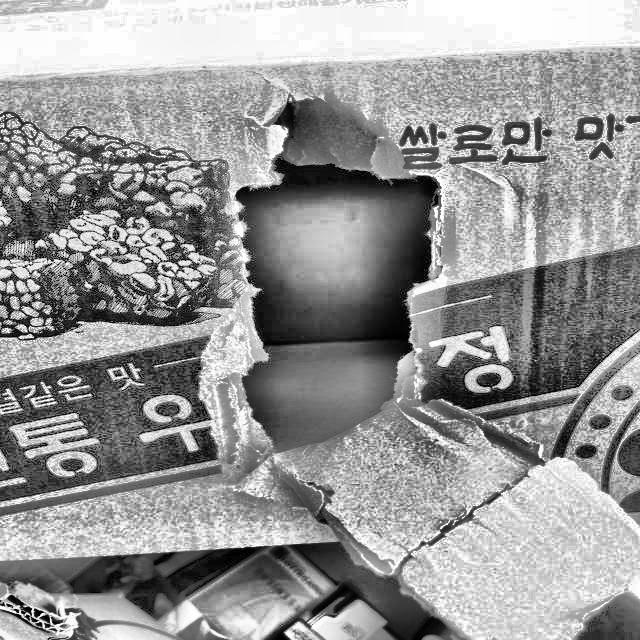box: (0, 38, 639, 568)
hole: (217, 165, 453, 462)
